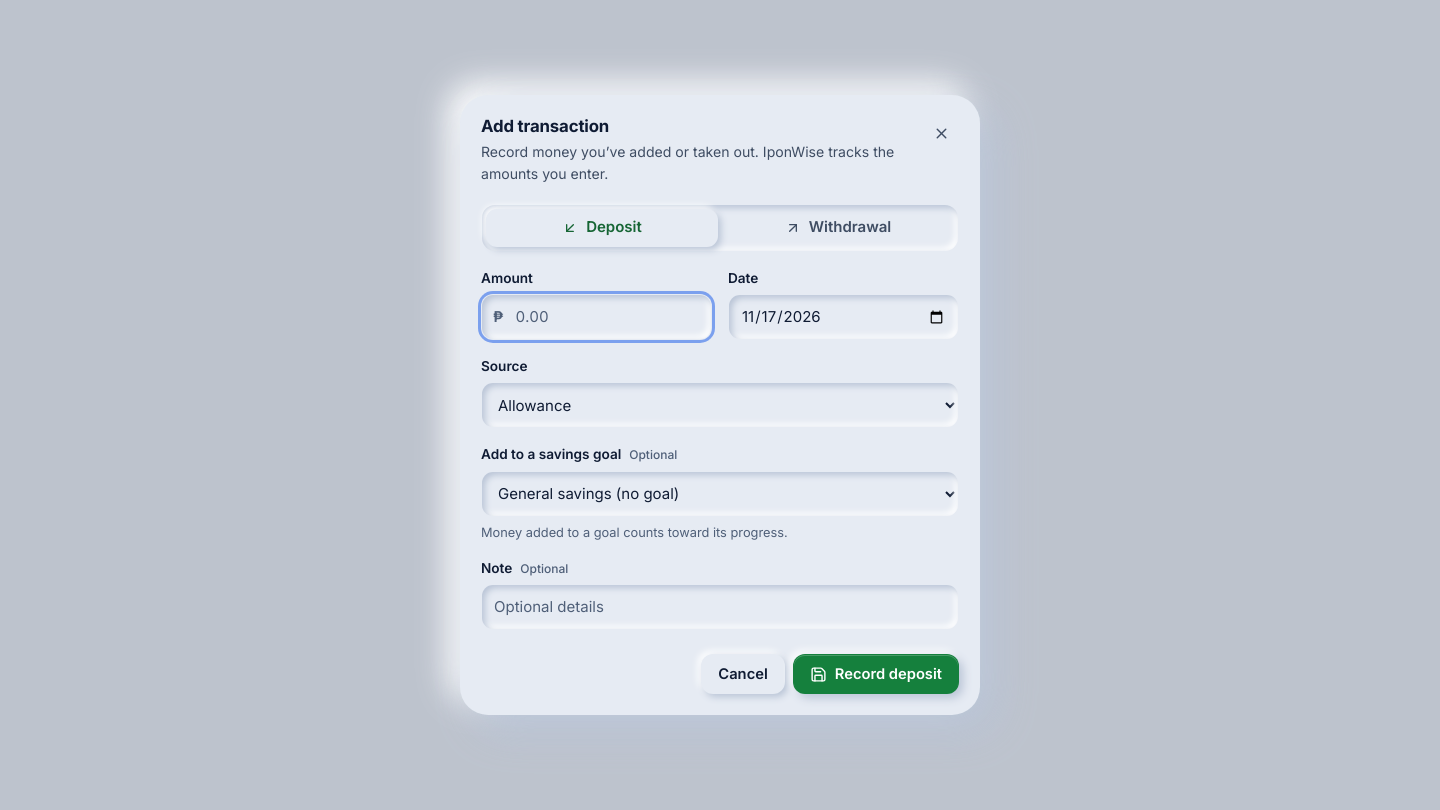
TransactionModal › rejects a goal contribution that exceeds the goal’s remaining amount
This screenshot has width=1440, height=810.
In the number field labelled "Amount": (596, 317) [481,294,712,340], type "500"
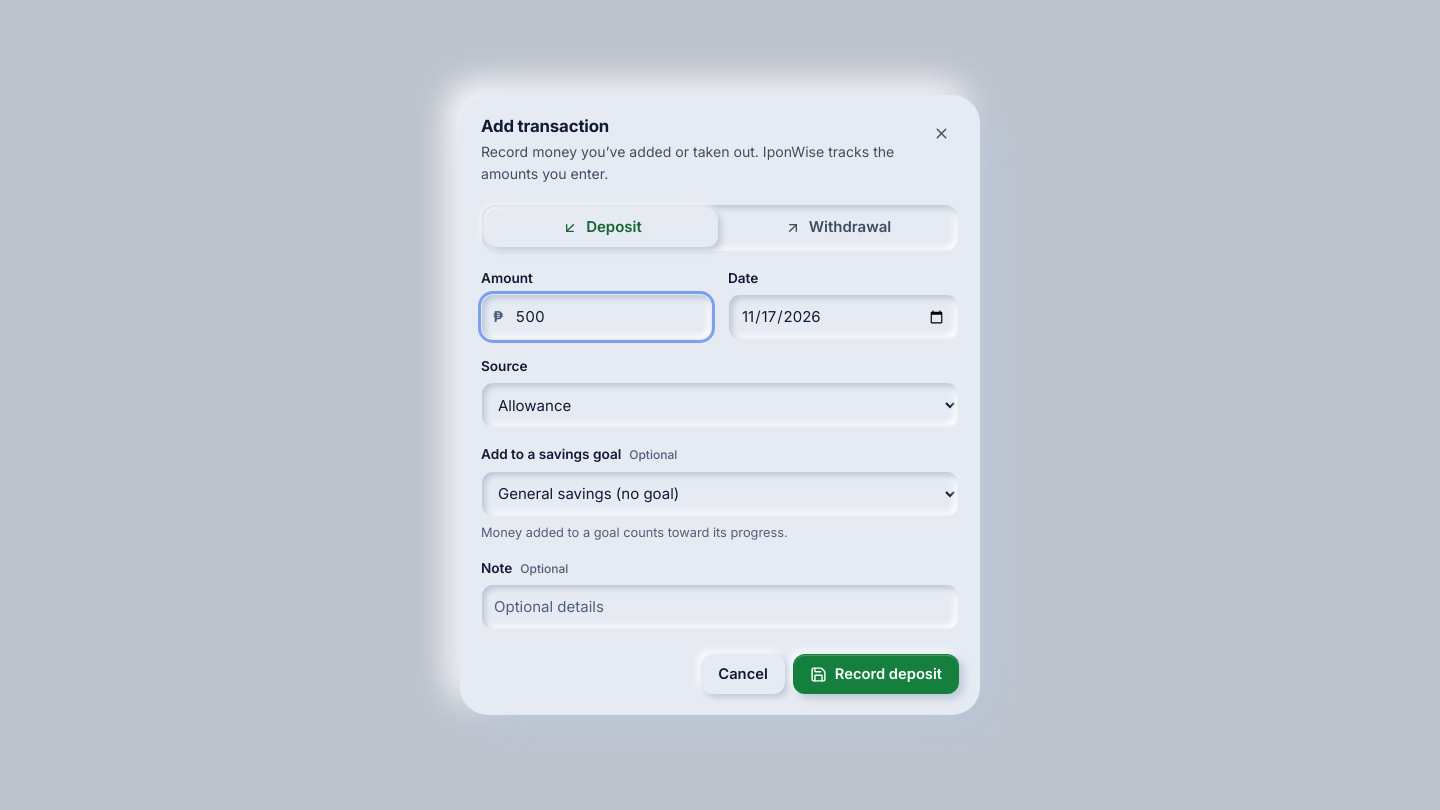
Select "Emergency fund — ₱900 of ₱1,000" in the dropdown labelled "Add to a savings goal Optional": (720, 494) [481,471,959,517]
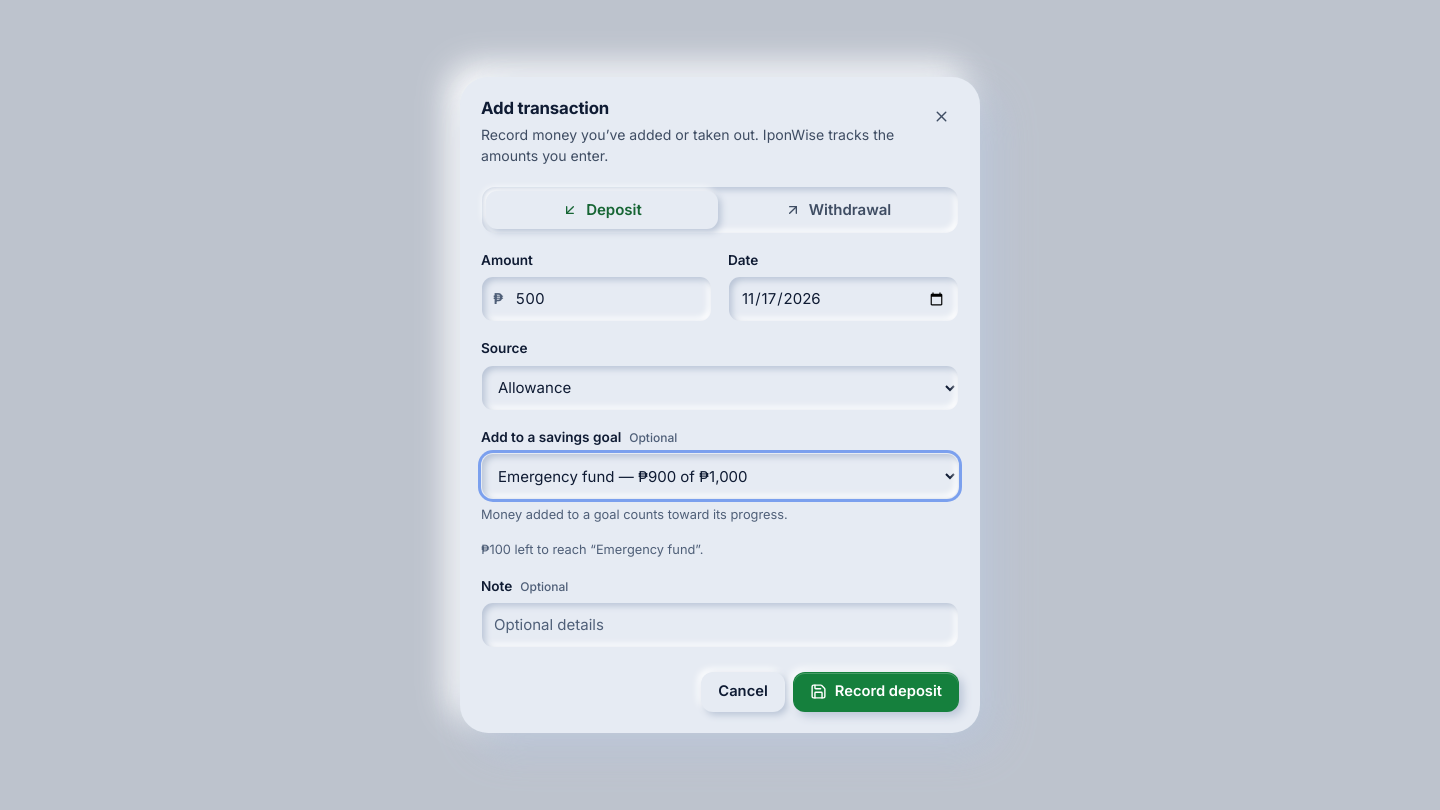
Click the button "Record deposit": (876, 692) [793,672,959,712]
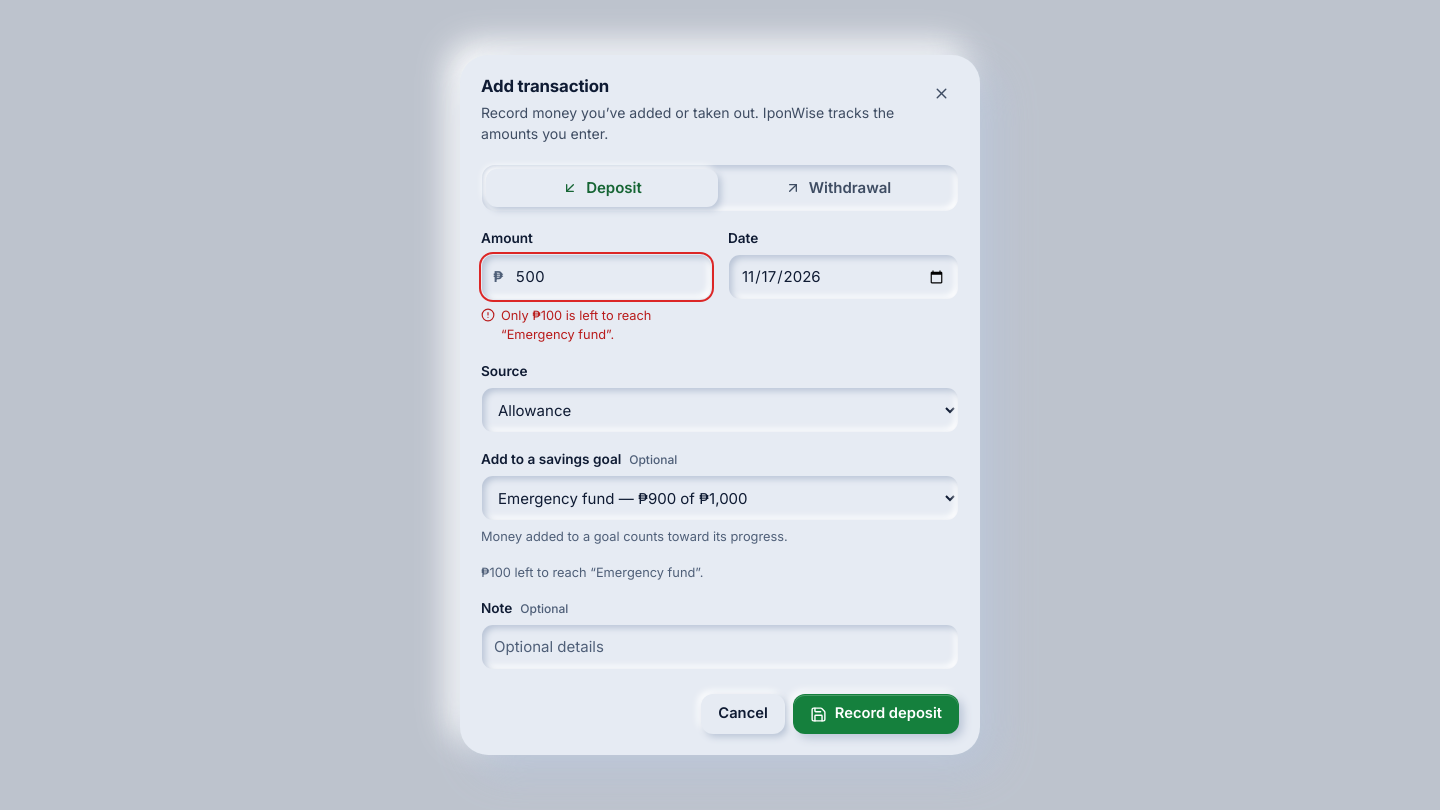
Expected: the text "Only ₱100 is left to reach “Emergency fund”." is shown, [481,308,652,342]
